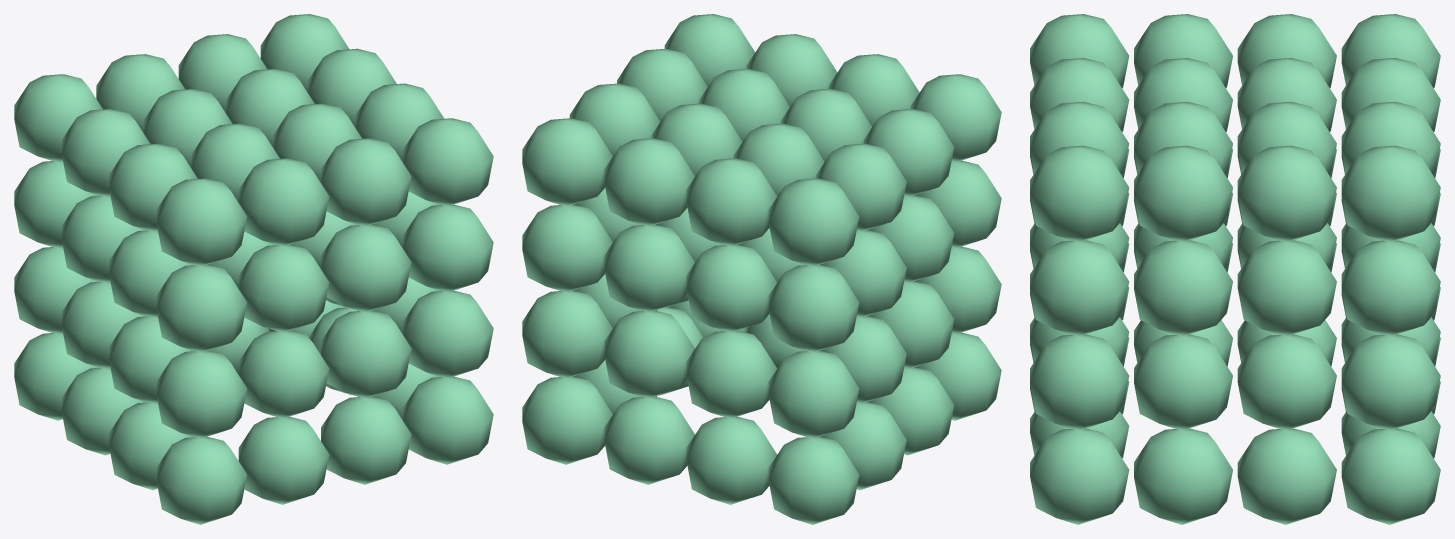
The model's file is sparkOfLife.FBX.
3 renders of one model, left to right at view 1: azimuth 30°, elevation 25°; view 2: azimuth 150°, elevation 25°; view 3: azimuth 270°, elevation 25°, orthographic. The views are drawn at different scales.
Visible parts, largest first — view 1: Mesh_009; view 2: Mesh_009; view 3: Mesh_009.
Part boxes in pixels (left/top/right/bottom): Mesh_009: left=14, top=14, right=493, bottom=524; Mesh_009: left=522, top=14, right=1001, bottom=524; Mesh_009: left=1030, top=14, right=1440, bottom=524.
Size of the model in its own units: 2.98 by 3 by 2.97.
